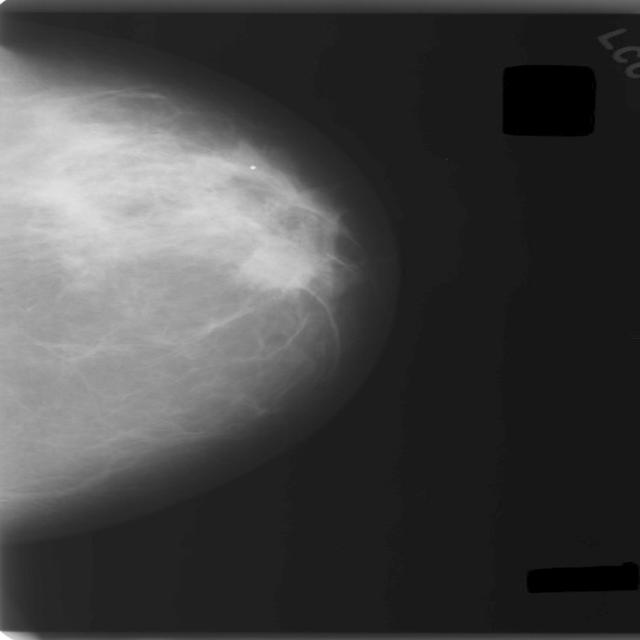tumour: (240, 238, 314, 290)
